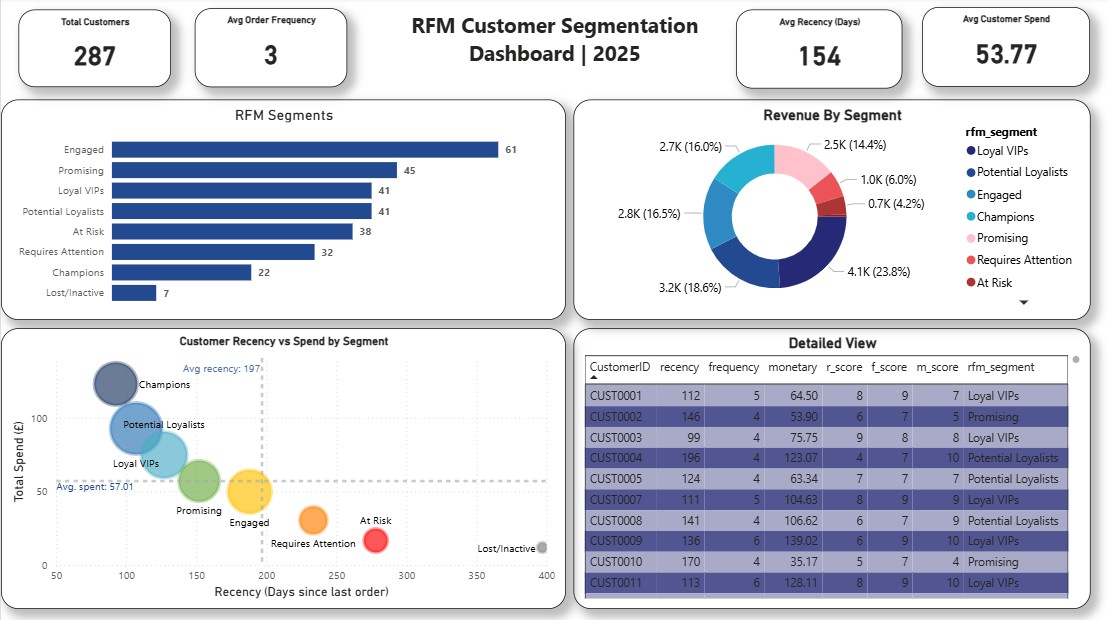

Layout of this report page (visuals, bound fields, positions):
{"tool":"powerbi","page":{"name":"RFM","canvas":[1280,720],"ordinal":0},"visuals":[{"type":"clusteredBarChart","title":"RFM Segments","fields":{"Y":["CountNonNull(Query1.CustomerID)"],"Category":["Query1.rfm_segment"]},"box":[0,118.6,651.8,254.3],"z":0},{"type":"card","title":"Total Customers","fields":{"Values":["Count(Query1.CustomerID)"]},"box":[20.2,14.4,176,89.5],"z":1000},{"type":"tableEx","title":"Detailed View","fields":{"Values":["Query1.CustomerID","Query1.recency","Query1.frequency","Query1.monetary","Query1.r_score","Query1.f_score","Query1.m_score","Query1.rfm_segment"]},"box":[660.3,382.7,596.7,324.1],"z":2000},{"type":"donutChart","title":"Revenue By Segment","fields":{"Category":["Query1.rfm_segment"],"Y":["Sum(Query1.monetary)"]},"box":[660.3,118.6,596.7,254.3],"z":3000},{"type":"card","title":"Avg Order Frequency","fields":{"Values":["Median(Query1.frequency)"]},"box":[223.6,13,176,90.9],"z":4000},{"type":"card","title":"Avg Recency (Days)","fields":{"Values":["Median(Query1.recency)"]},"box":[848.3,14.4,191.9,90.9],"z":5000},{"type":"card","title":"Avg Customer Spend","fields":{"Values":["Median(Query1.monetary)"]},"box":[1063.9,11,193.2,91.7],"z":6000},{"type":"scatterChart","title":"Customer Recency vs Spend by Segment","fields":{"X":["Median(Query1.recency)"],"Y":["Median(Query1.monetary)"],"Series":["Query1.rfm_segment"],"Size":["Sum(Query1.monetary)1"]},"box":[0,382.7,651.8,324.1],"z":7000},{"type":"textbox","box":[454.9,11,369.3,78.3],"z":8000}]}

Visuals, with their boxes in screenshot pixels (x1, y1, x2, y2), scaled from the page's 1280x720 canvas onto the 1108x620 screenshot:
"RFM Segments" clusteredBarChart: bbox(0, 102, 564, 321)
"Total Customers" card: bbox(17, 12, 170, 89)
"Detailed View" tableEx: bbox(572, 330, 1088, 609)
"Revenue By Segment" donutChart: bbox(572, 102, 1088, 321)
"Avg Order Frequency" card: bbox(194, 11, 346, 89)
"Avg Recency (Days)" card: bbox(734, 12, 900, 91)
"Avg Customer Spend" card: bbox(921, 9, 1088, 88)
"Customer Recency vs Spend by Segment" scatterChart: bbox(0, 330, 564, 609)
textbox: bbox(394, 9, 713, 77)
